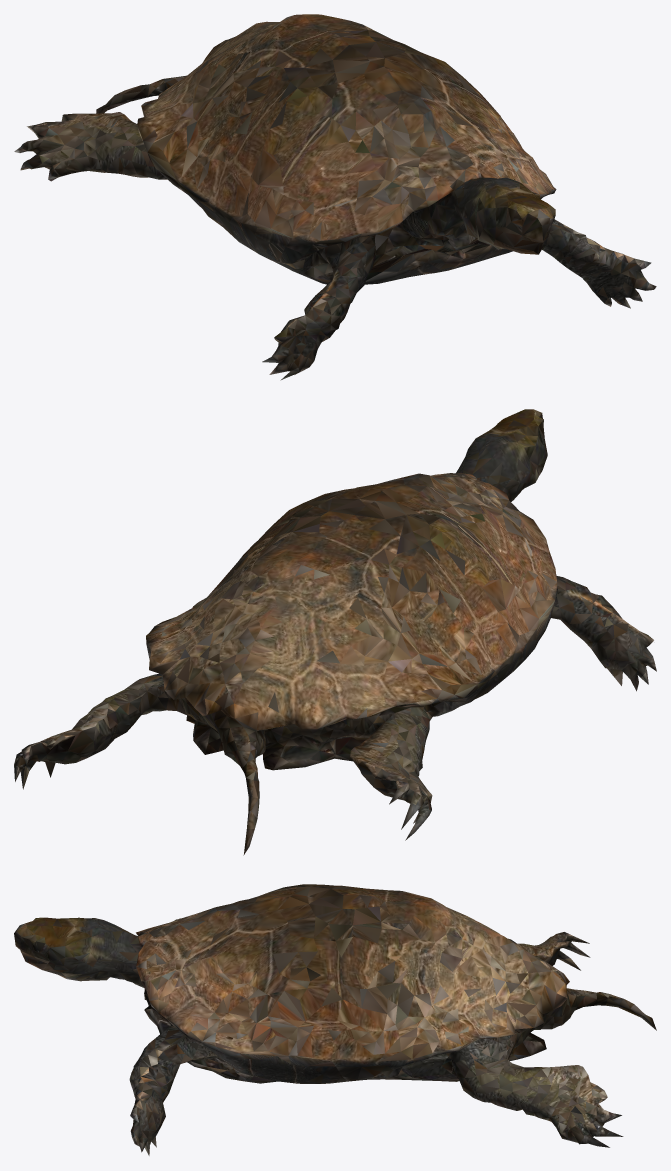
File: pond_turtle.glb
3 views of the same model, one above another, from view 1: azimuth 30°, elevation 25°; view 2: azimuth 150°, elevation 25°; view 3: azimuth 270°, elevation 25° (orthographic). The views are drawn at different scales.
Parts seen in each view (by area): view 1: pond_turtle; view 2: pond_turtle; view 3: pond_turtle.
Boxes of the visible parts, x1,y1,x2,y2 form: pond_turtle: (14, 14, 656, 380); pond_turtle: (14, 409, 656, 855); pond_turtle: (14, 884, 656, 1155).
Size of the model in its own units: 0.1339 by 0.0723 by 0.22.
Materials: 1 (1 with a texture image).
